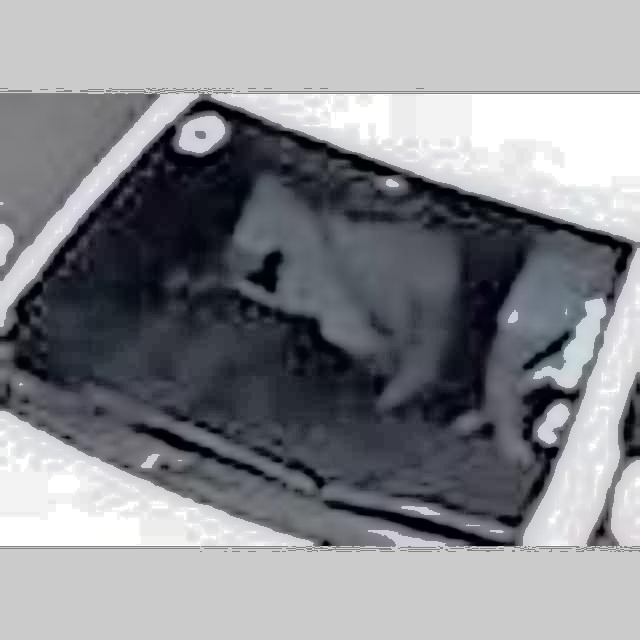pakai: (200, 147, 411, 423)
